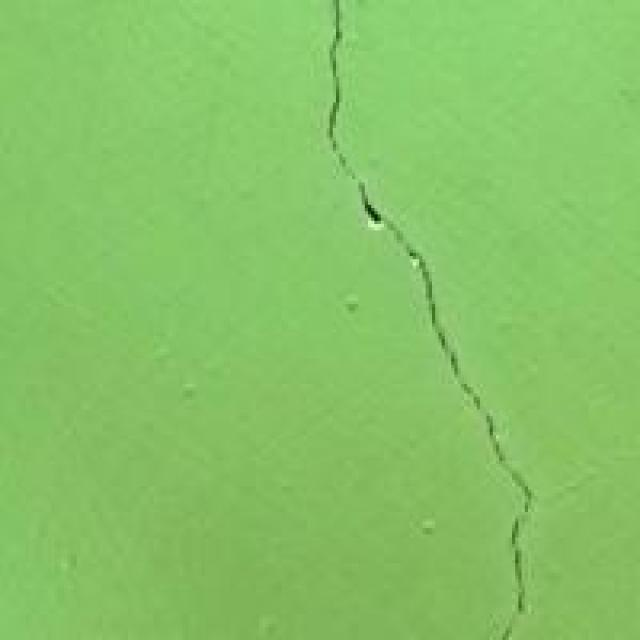Crack: (291, 0, 592, 637)
